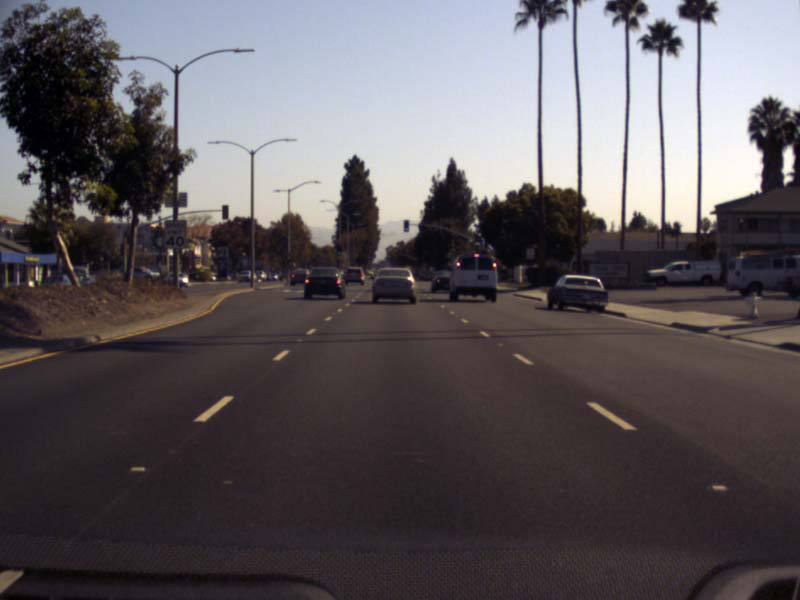Green: (336, 245, 342, 255), (404, 221, 408, 231)
